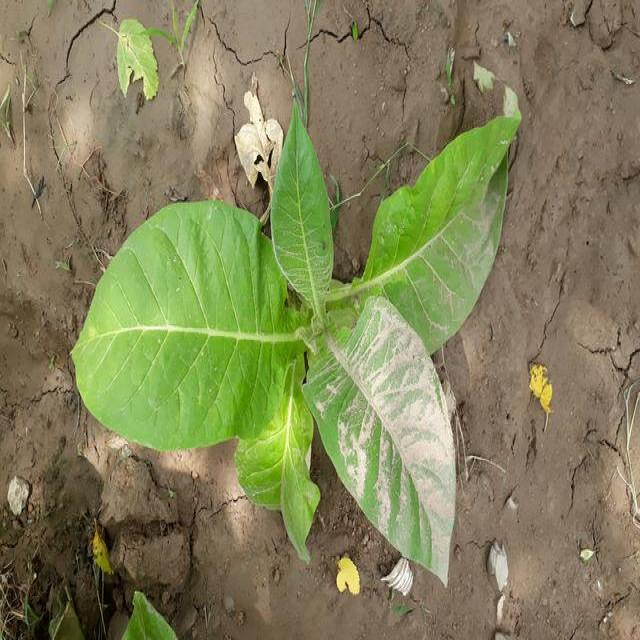crop: (79, 103, 523, 577)
